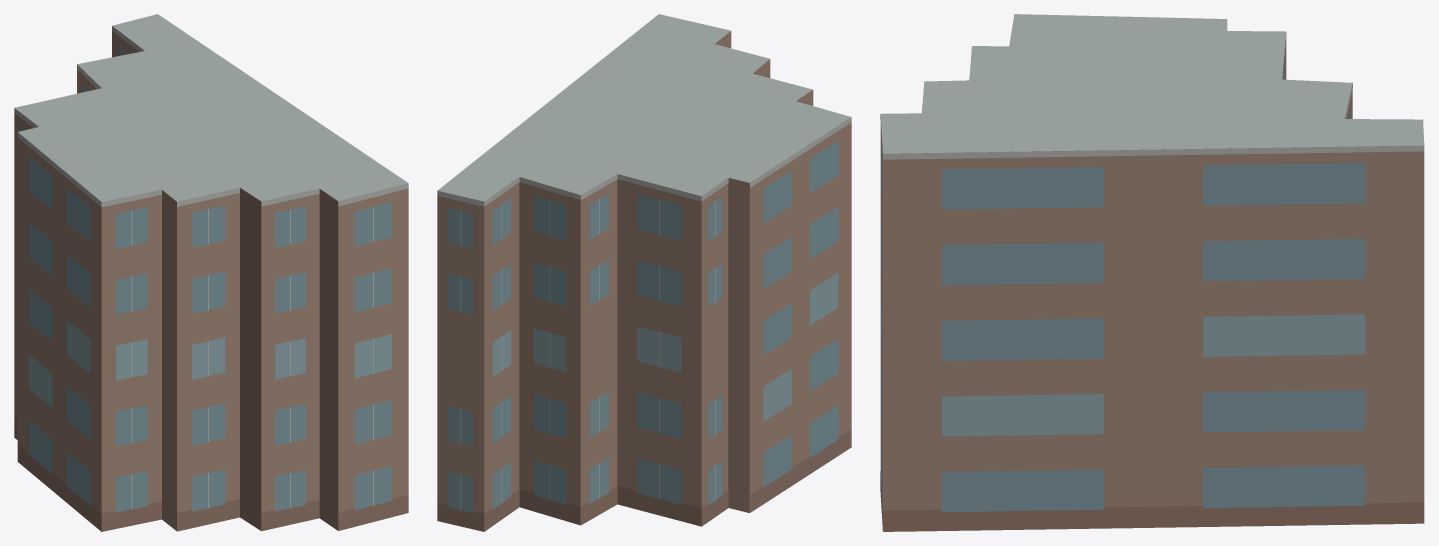
Rendered from survey-upis-32876247.glb.
The picture shows the model from 3 angles, left to right: view 1: azimuth 30°, elevation 25°; view 2: azimuth 150°, elevation 25°; view 3: azimuth 270°, elevation 25°; orthographic projection. The views are drawn at different scales.
Visible parts, largest first — view 1: survey-upis-32876247.tmp; view 2: survey-upis-32876247.tmp; view 3: survey-upis-32876247.tmp.
Boxes of the visible parts, x1,y1,x2,y2 form: survey-upis-32876247.tmp: (14, 14, 408, 531); survey-upis-32876247.tmp: (437, 14, 851, 531); survey-upis-32876247.tmp: (880, 14, 1424, 531).
Size of the model in its own units: 12.29 by 15.5 by 20.21.
